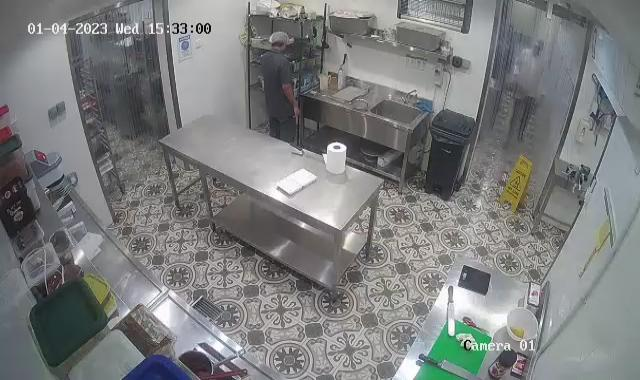hairnet: (268, 31, 290, 47)
